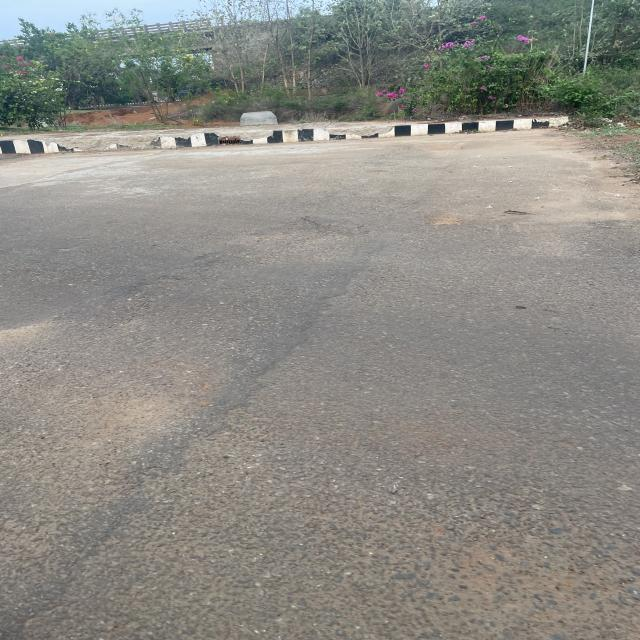D11: (59, 260, 438, 564)
